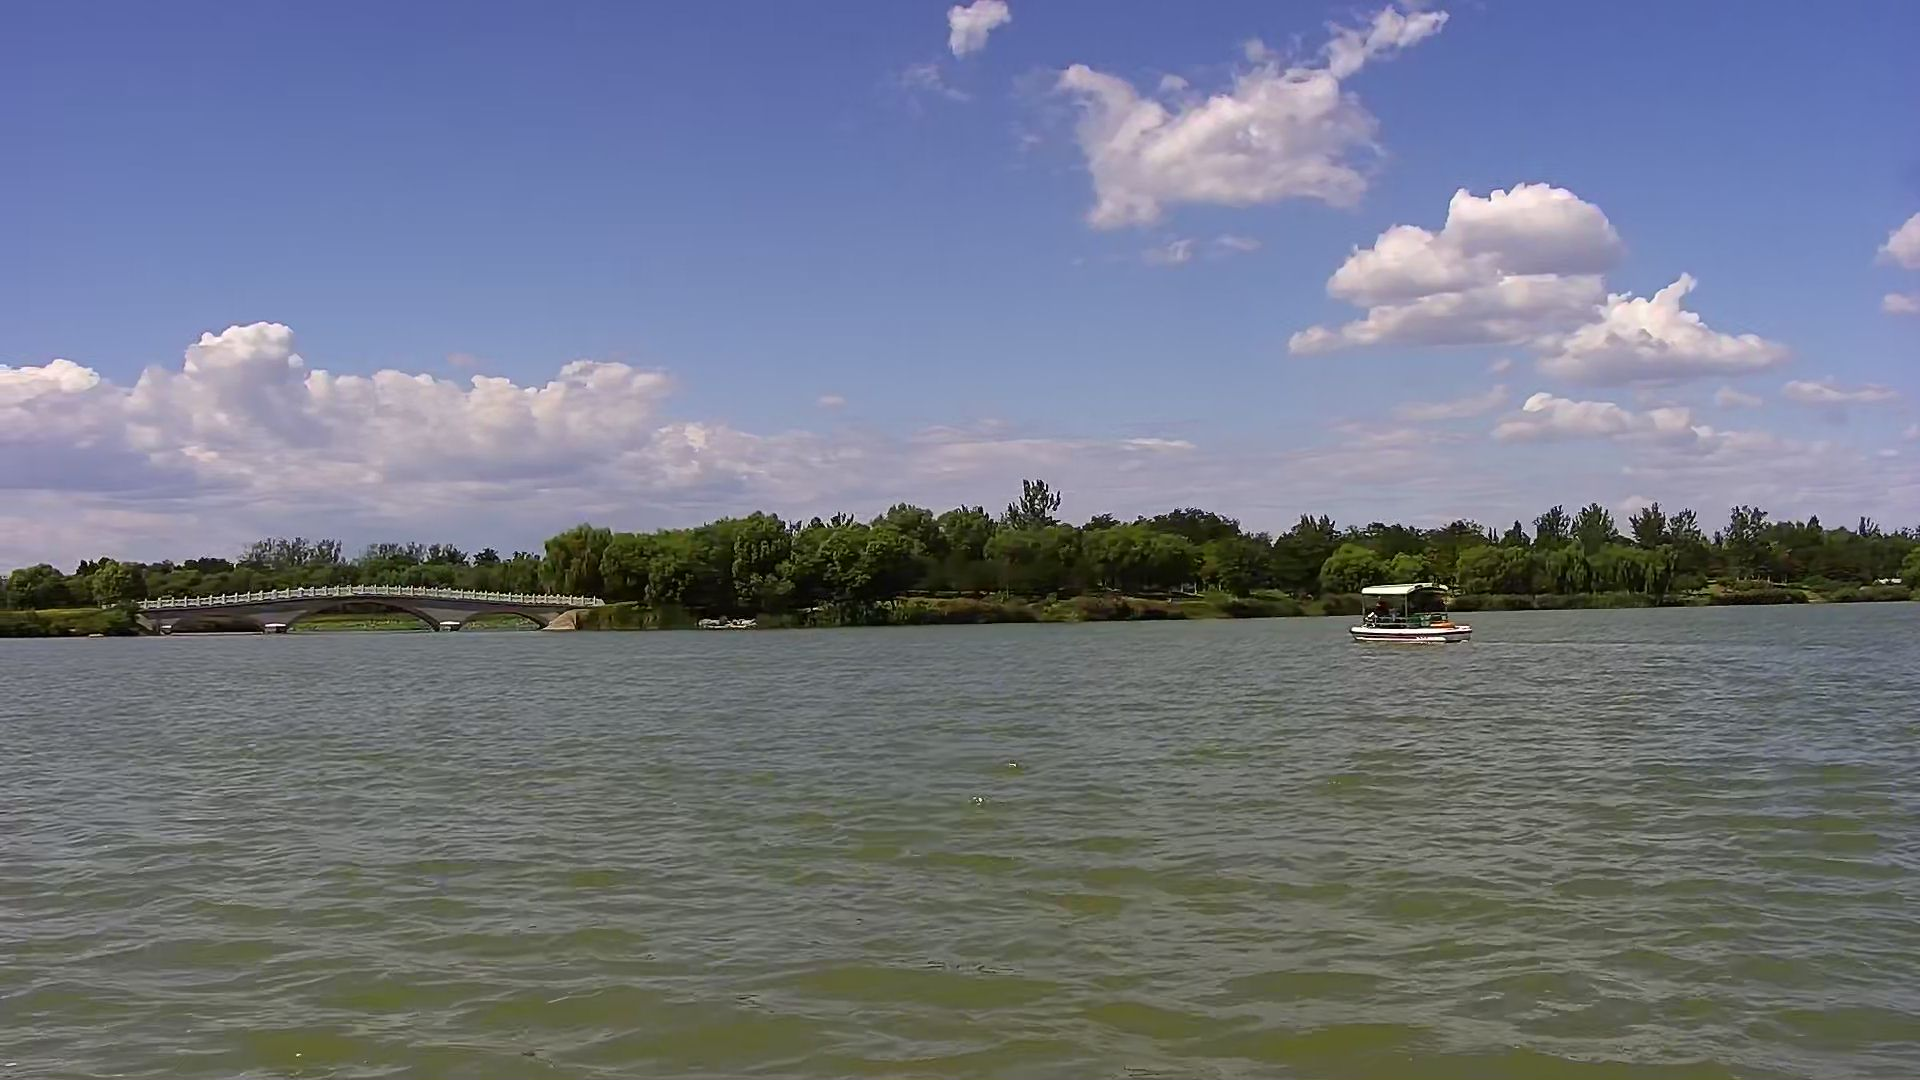boat: (1352, 582, 1470, 644)
bridge: (154, 585, 574, 646)
